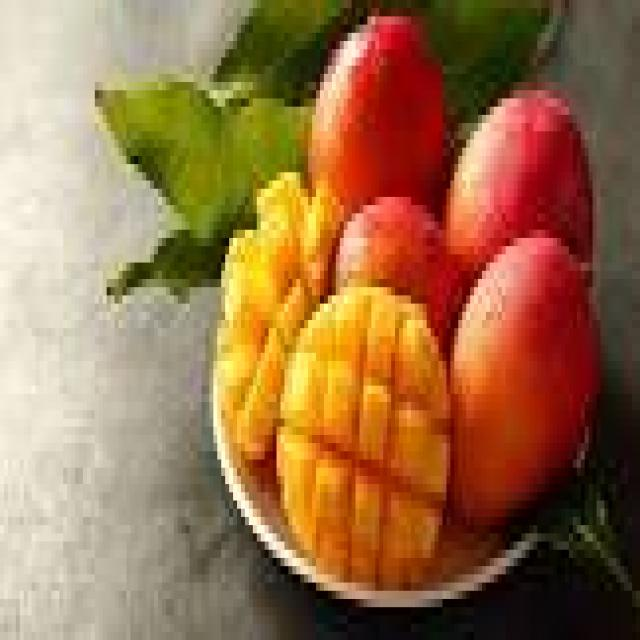mango: (276, 286, 449, 587), (451, 234, 600, 527), (219, 171, 344, 460), (445, 88, 592, 273), (309, 16, 442, 210), (335, 195, 466, 350)
